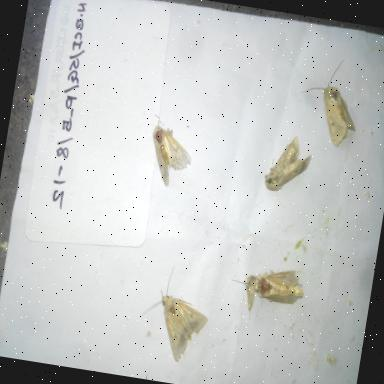abw: (134, 258, 220, 368), (289, 48, 368, 152), (136, 110, 202, 194), (224, 255, 311, 310), (258, 128, 320, 202)
